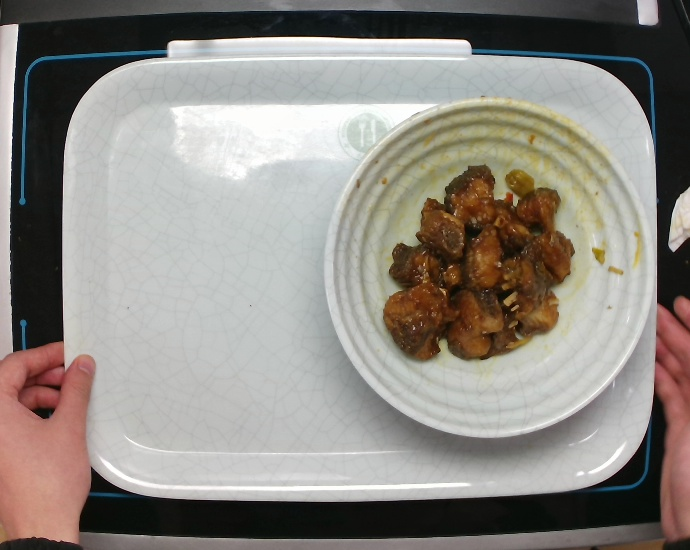JYsf-Da_Tang_Wan: (317, 95, 650, 439)
